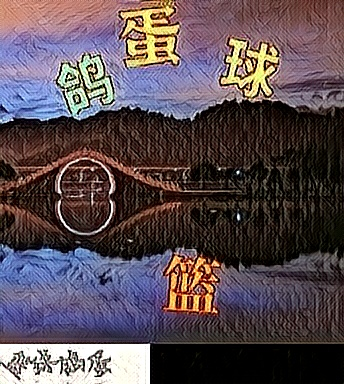B5B0: (117, 4, 180, 71)
B8EB: (53, 50, 116, 117)
C0BA: (159, 250, 222, 317)
C7F2: (217, 35, 280, 102)
